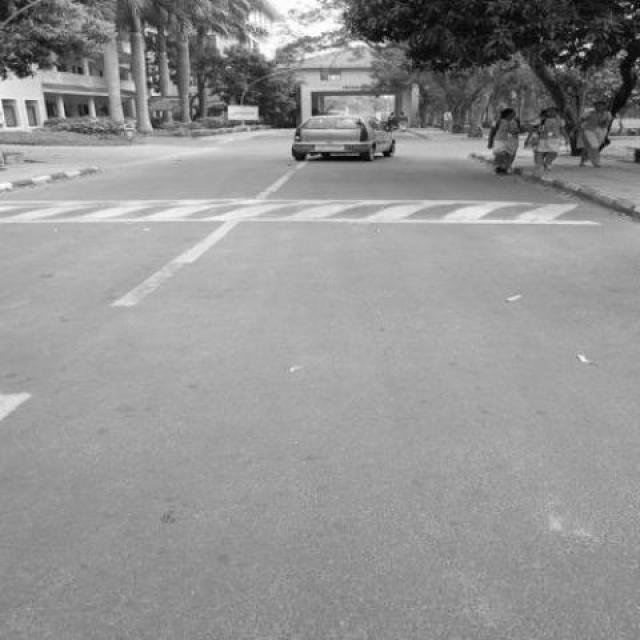Speed Bump: (0, 196, 622, 226)
